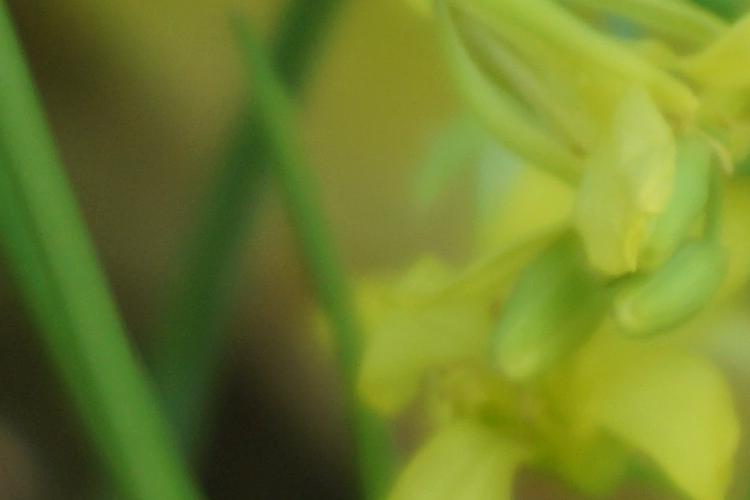bud: (495, 229, 614, 386), (604, 228, 730, 335)
yellow: (435, 3, 745, 246)
